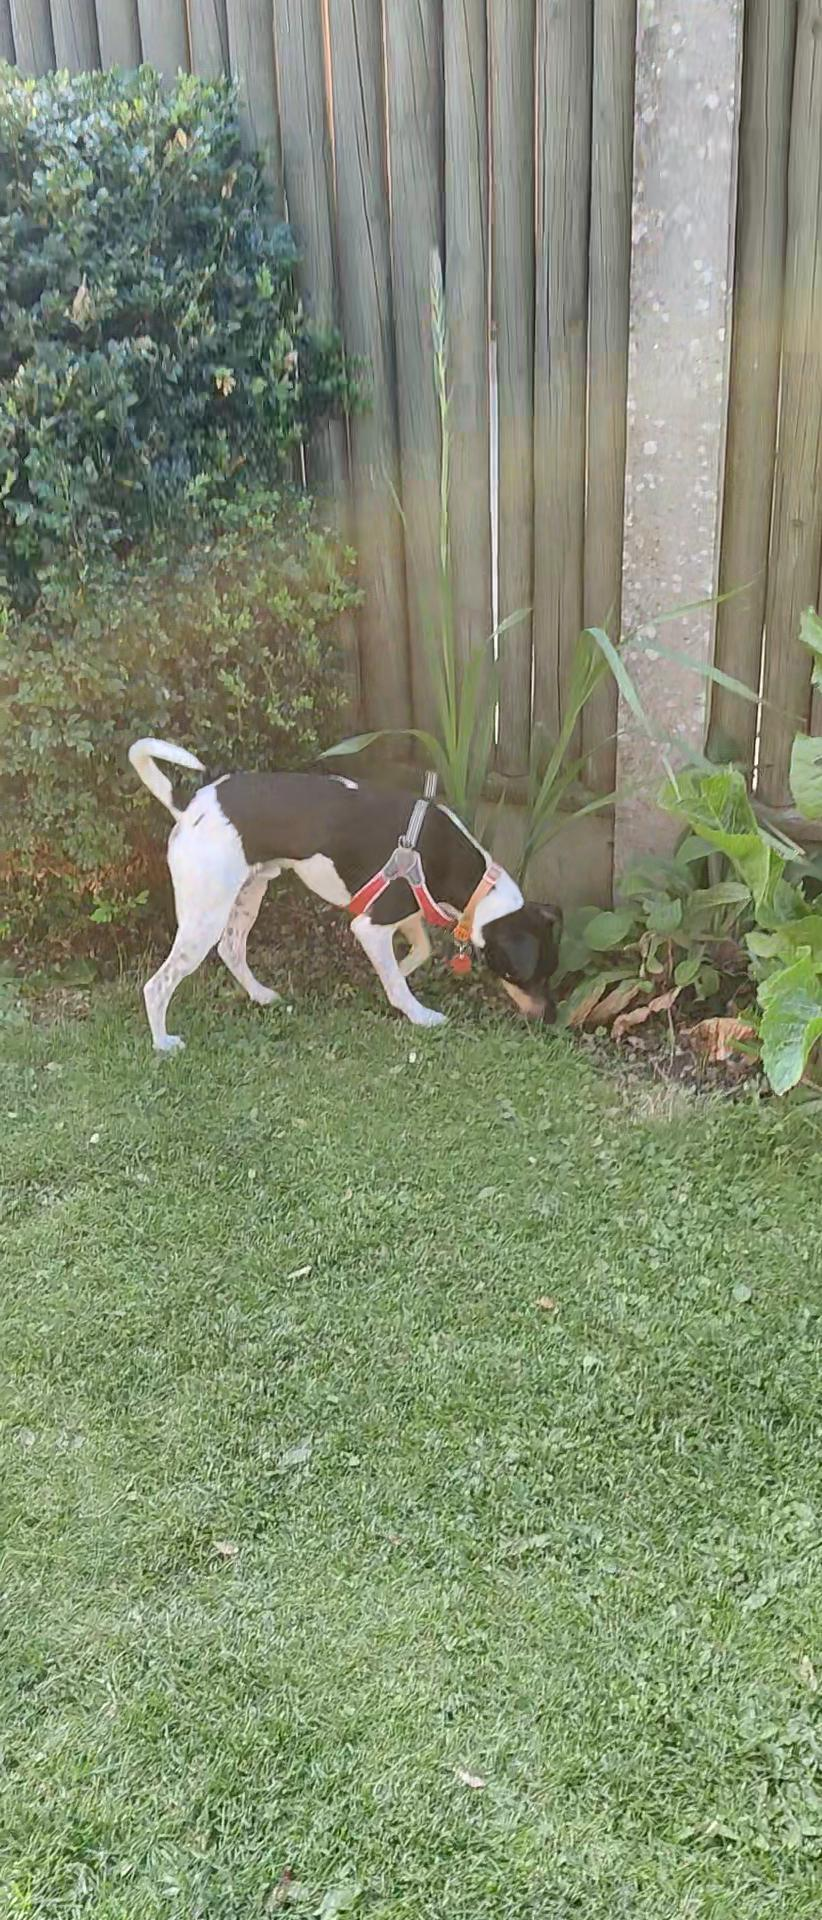Dog: (104, 720, 577, 1067)
